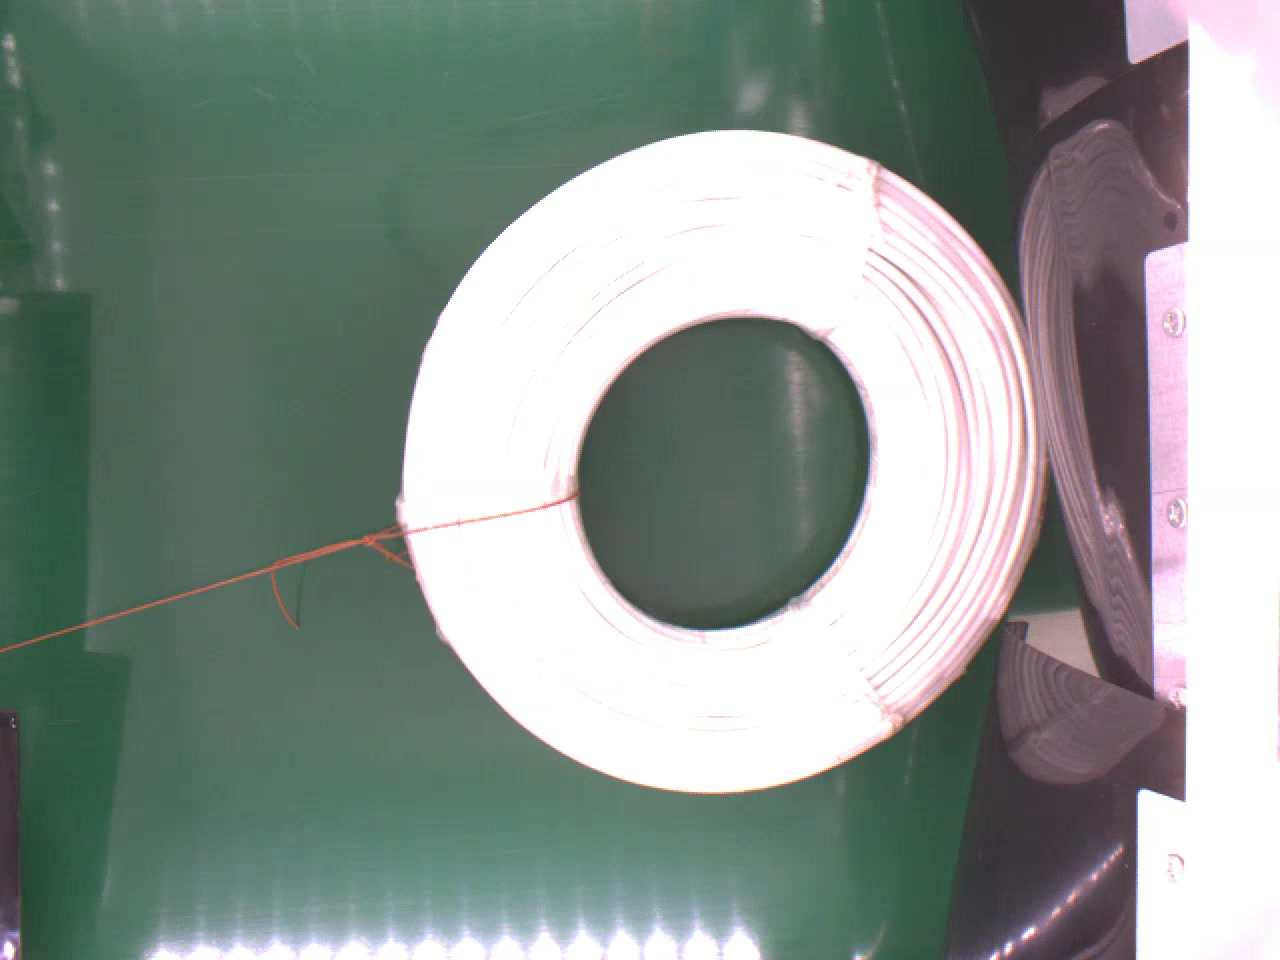white: (395, 125, 1058, 803)
